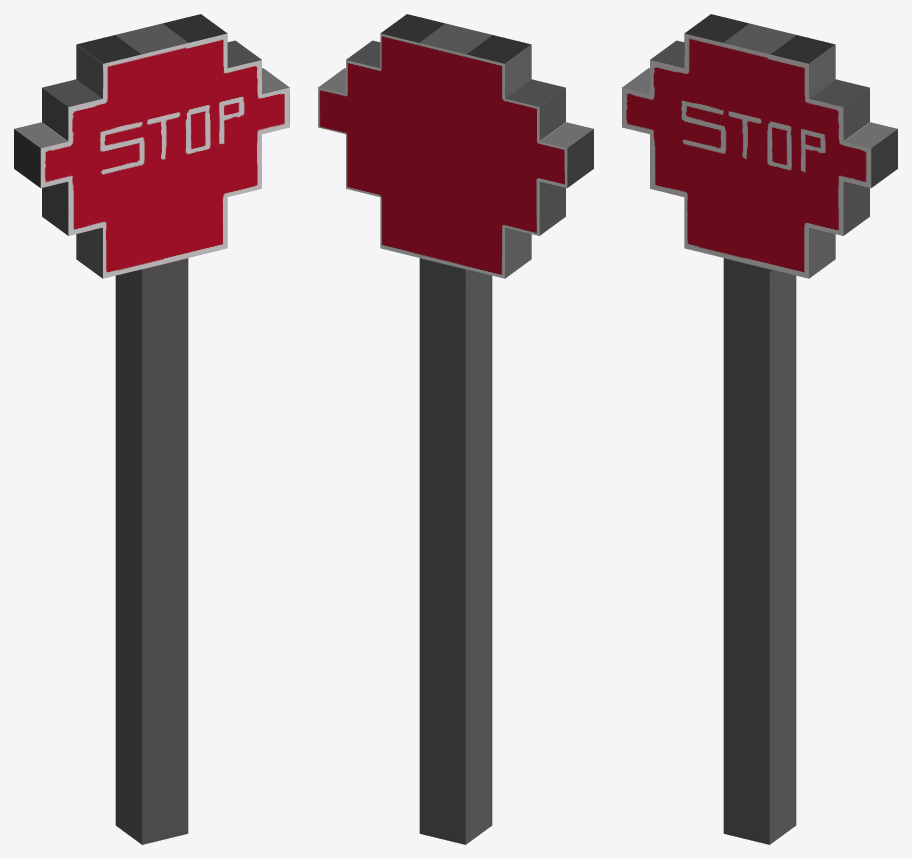
The model's file is Sign_Post_001.fbx.
3 views of the same model, side by side, from view 1: azimuth 30°, elevation 25°; view 2: azimuth 150°, elevation 25°; view 3: azimuth 330°, elevation 25° (orthographic).
Visible parts, largest first — view 1: pCube1; view 2: pCube1; view 3: pCube1.
Part boxes in pixels (x1,y1,x2,y2): pCube1: (14,14,289,844); pCube1: (318,14,593,844); pCube1: (622,14,897,844).
Bounding box in the file's own units: 1.03 × 3.11 × 0.1897.
